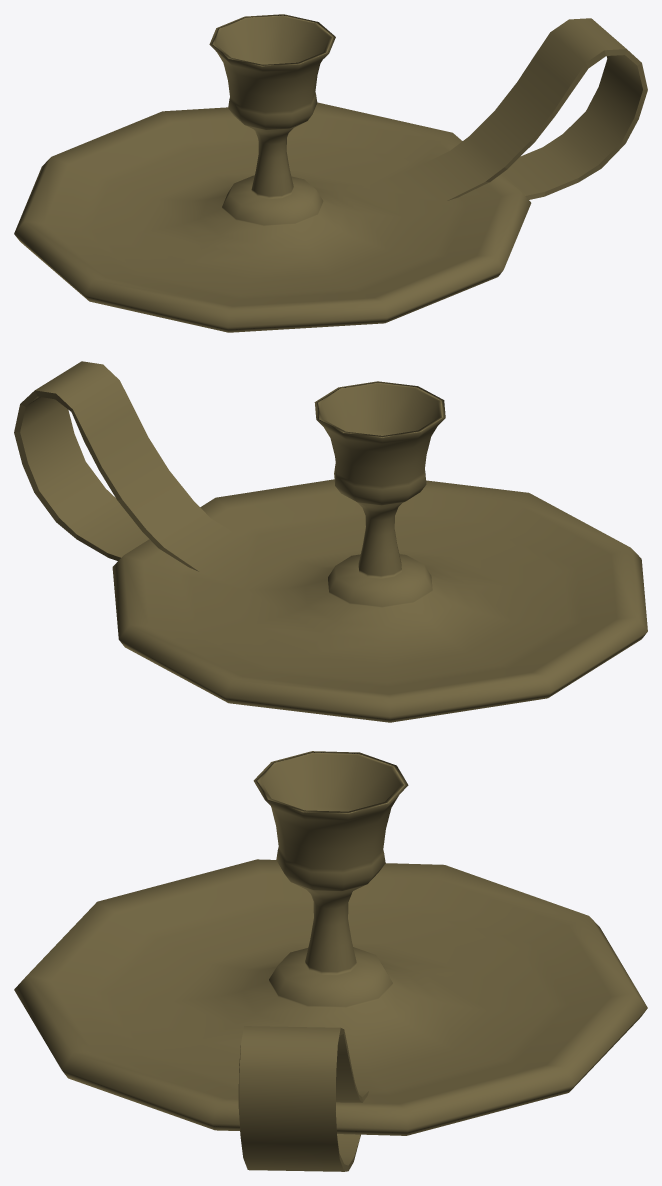
Rendered from BgMD_candle_candleholder (1).fbx.
3 views of the same model, one above another, from view 1: azimuth 30°, elevation 25°; view 2: azimuth 150°, elevation 25°; view 3: azimuth 270°, elevation 25° (orthographic). The views are drawn at different scales.
Visible parts, largest first — view 1: Bg_candleholder; view 2: Bg_candleholder; view 3: Bg_candleholder.
Boxes of the visible parts, x1=… form: Bg_candleholder: x1=14, y1=14, x2=647, y2=332; Bg_candleholder: x1=14, y1=361, x2=647, y2=722; Bg_candleholder: x1=14, y1=751, x2=647, y2=1171.
Size of the model in its own units: 67.07 by 22.09 by 53.96.
